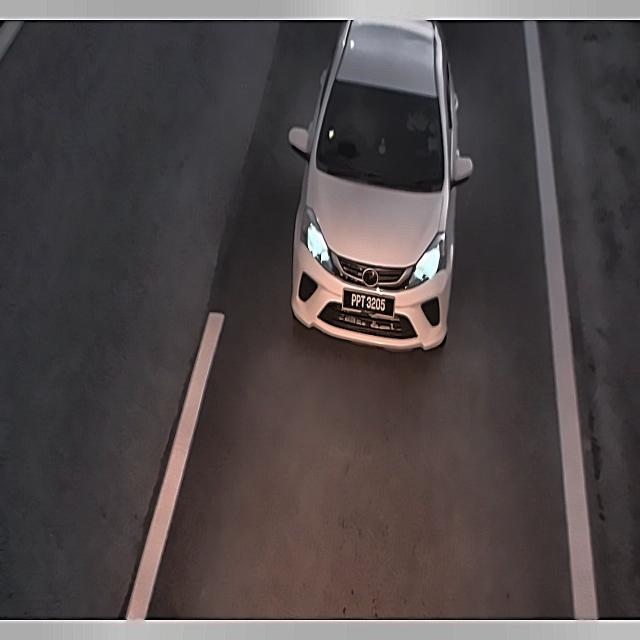car: (340, 276, 398, 324)
